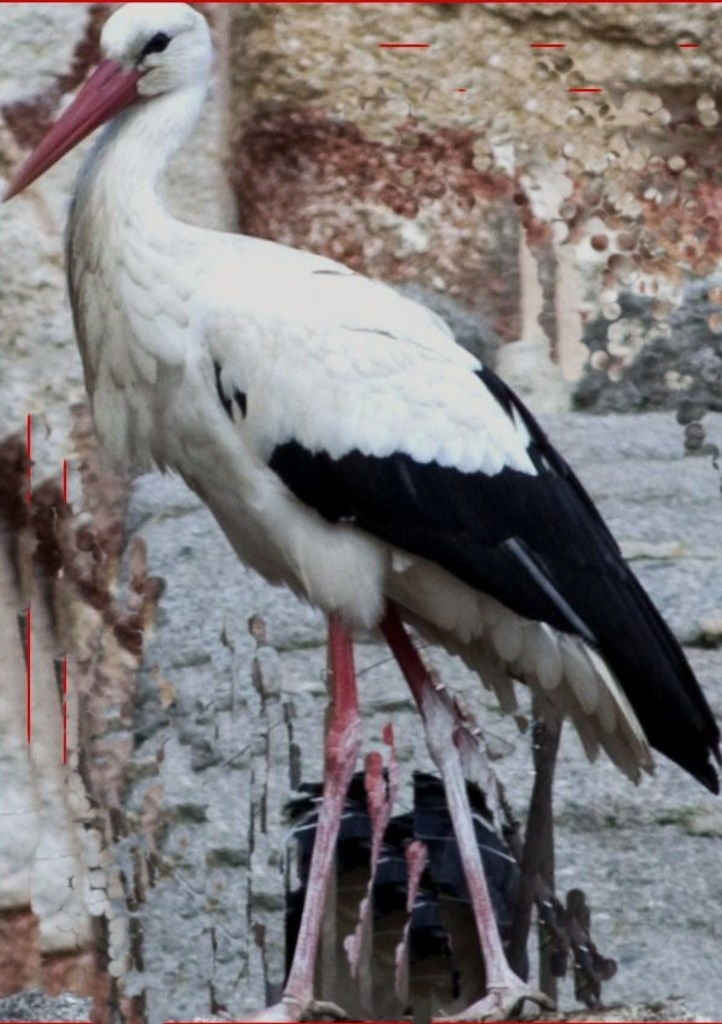Bird: (0, 3, 722, 1024)
